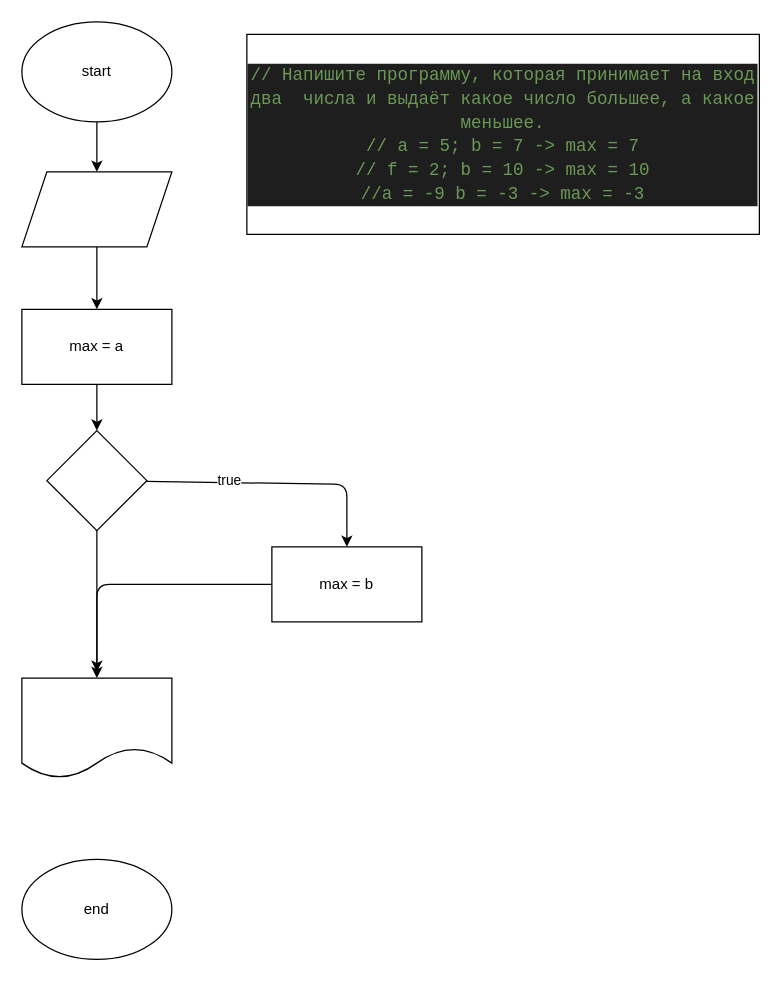
Image size: 781x981. Some labels were removed from this diagram. Here are the shapes that lost their labels. From the top down, the box of each, then its label:
(21, 171, 172, 247): a, b
(46, 429, 147, 531): b > max
(21, 677, 172, 778): max
